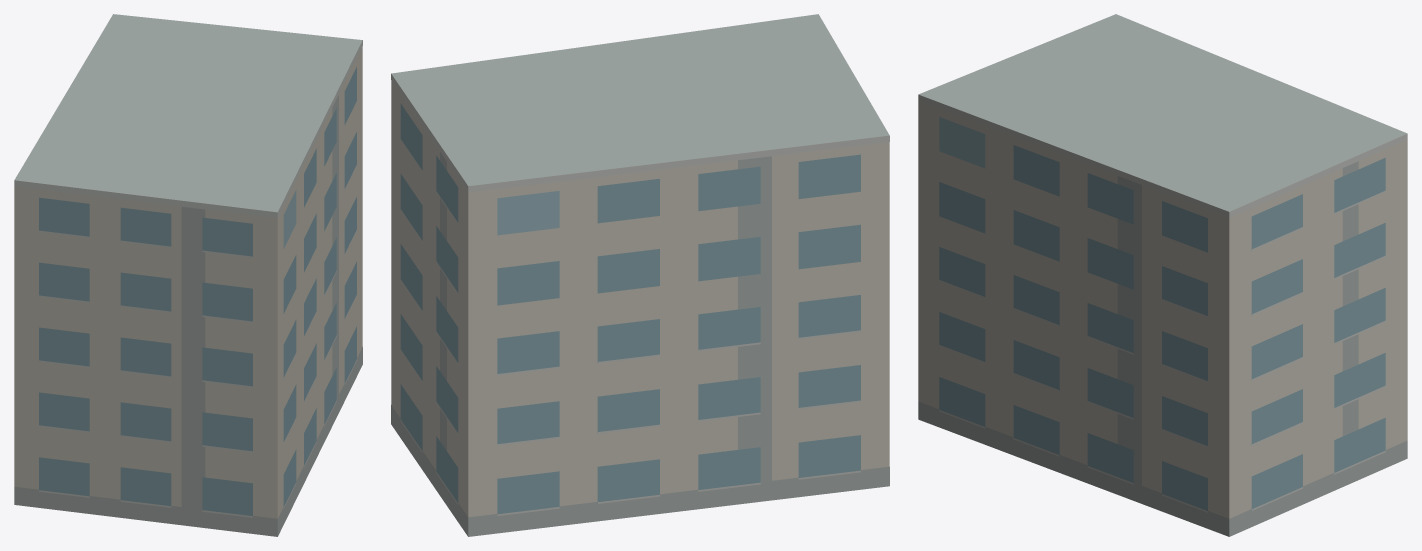
File: survey-upis-32881484.glb
3 views of the same model, side by side, from view 1: azimuth 30°, elevation 25°; view 2: azimuth 150°, elevation 25°; view 3: azimuth 270°, elevation 25° (orthographic). The views are drawn at different scales.
Parts seen in each view (by area): view 1: survey-upis-32881484.tmp; view 2: survey-upis-32881484.tmp; view 3: survey-upis-32881484.tmp.
Boxes of the visible parts, x1,y1,x2,y2 form: survey-upis-32881484.tmp: (14, 14, 362, 536); survey-upis-32881484.tmp: (391, 14, 889, 536); survey-upis-32881484.tmp: (918, 14, 1407, 536).
Size of the model in its own units: 17.25 by 13.2 by 18.02.
